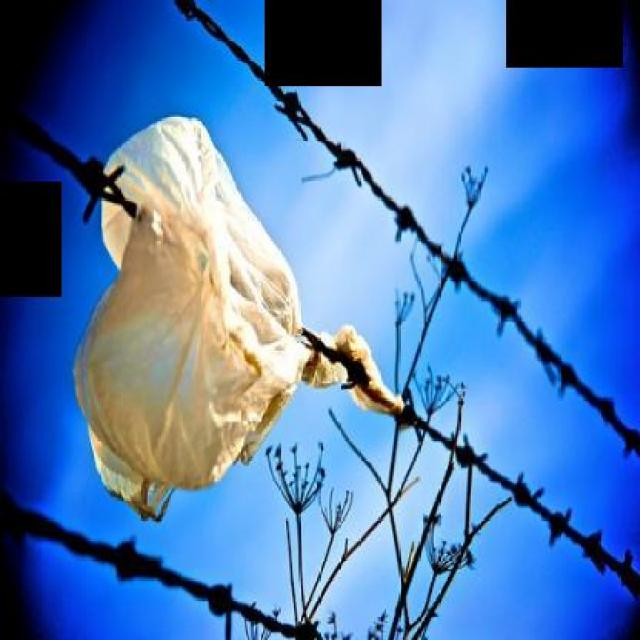plastic bag: (74, 109, 408, 522)
